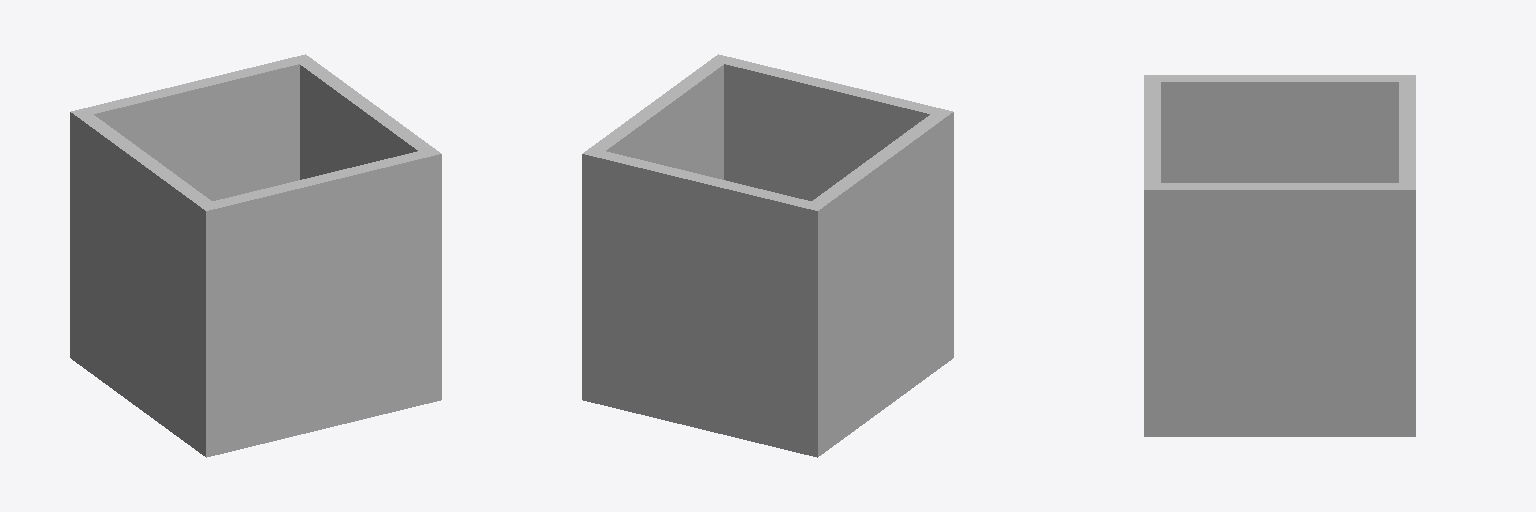
The model's file is chute_inv.obj.
3 renders of one model, left to right at view 1: azimuth 30°, elevation 25°; view 2: azimuth 150°, elevation 25°; view 3: azimuth 270°, elevation 25°, orthographic.
Parts seen in each view (by area): view 1: inventory; view 2: inventory; view 3: inventory.
Part boxes in pixels (x1,y1,x2,y2): inventory: (70, 54, 441, 457); inventory: (582, 54, 953, 457); inventory: (1144, 75, 1415, 436).
Size of the model in its own units: 1 by 1 by 1.